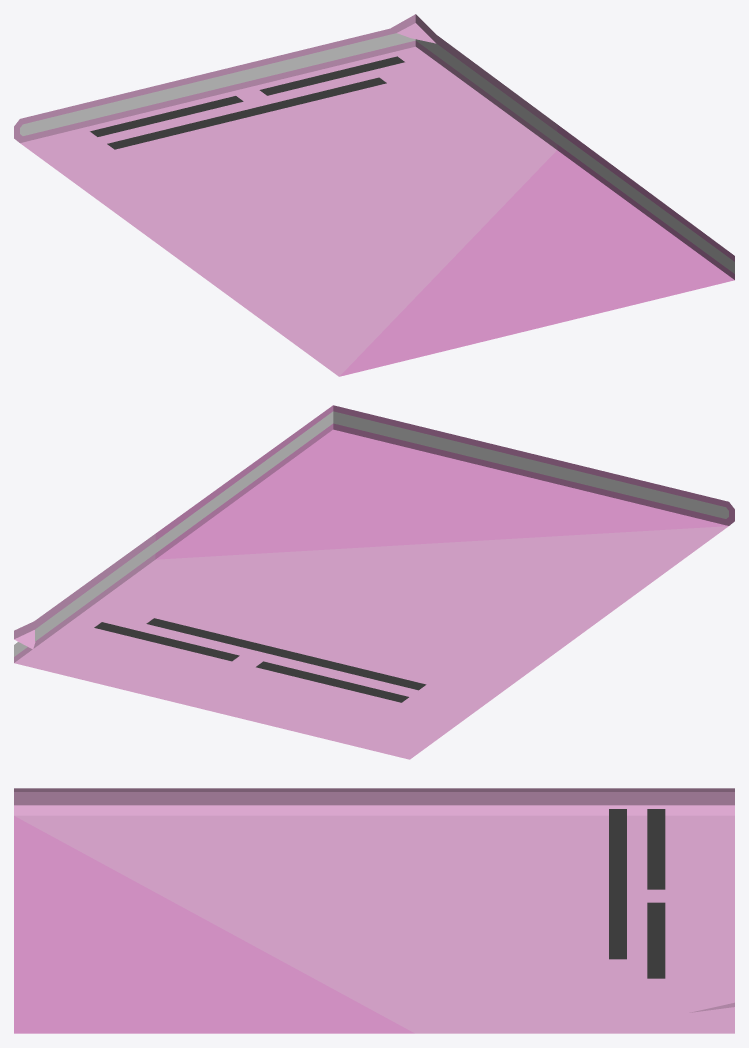
File: Magazine.glb
The picture shows the model from 3 angles, top to bottom: view 1: azimuth 30°, elevation 25°; view 2: azimuth 150°, elevation 25°; view 3: azimuth 270°, elevation 25°; orthographic projection. The views are drawn at different scales.
Visible parts, largest first — view 1: Magazine_Plane; view 2: Magazine_Plane; view 3: Magazine_Plane.
Boxes of the visible parts, x1,y1,x2,y2 form: Magazine_Plane: (14,14,734,376); Magazine_Plane: (14,405,734,759); Magazine_Plane: (14,788,734,1033).
Bounding box in the file's own units: 0.7552 × 0.0584 × 1.04.
